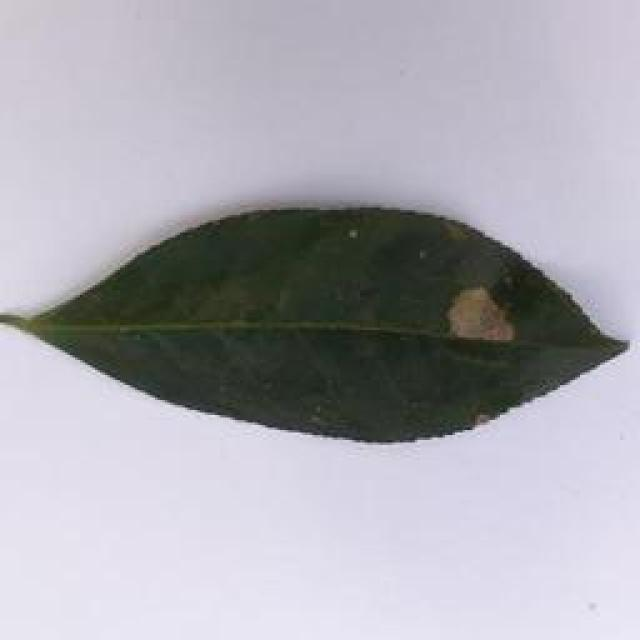Gray Blight: (6, 184, 640, 458)
